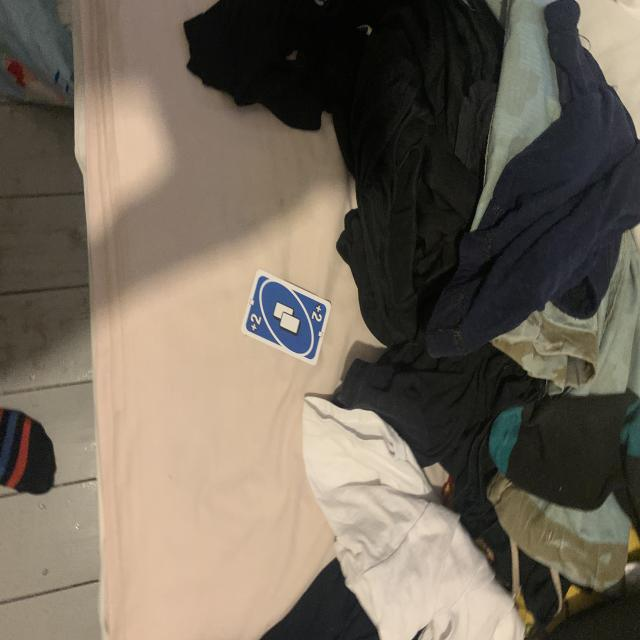lblue-20: (248, 310, 264, 336)
